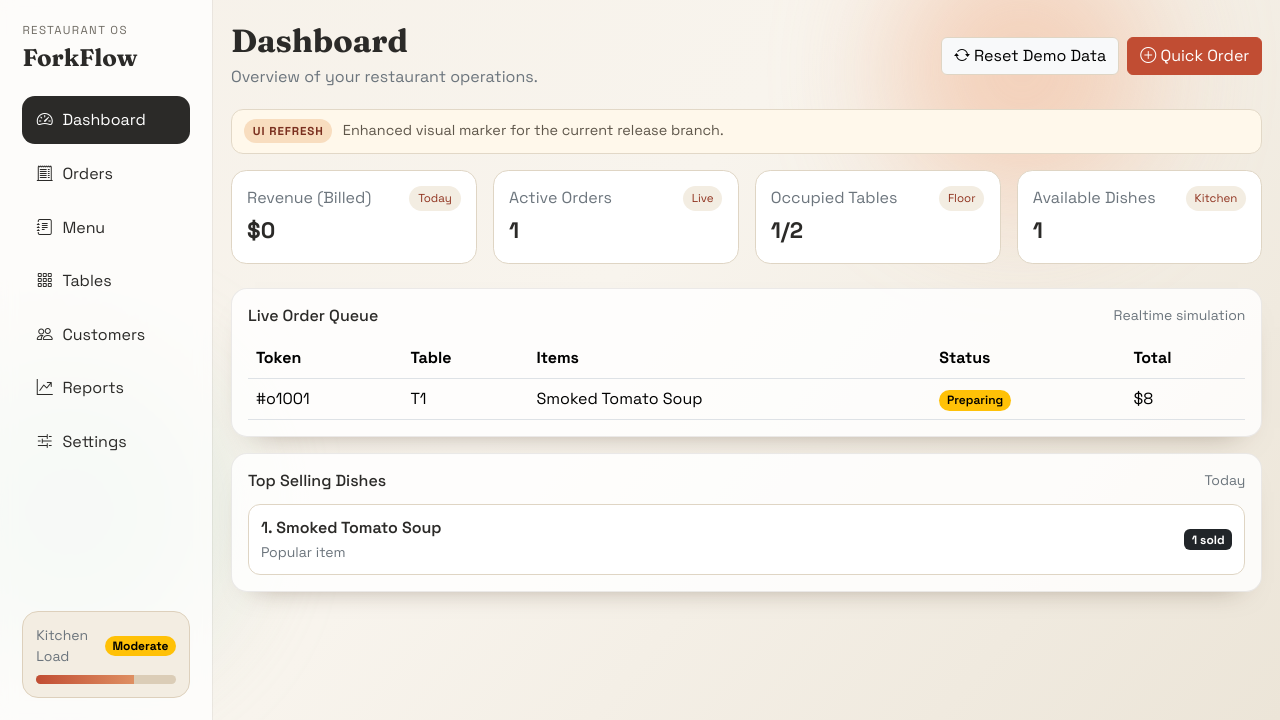
App › filters customer ledger rows by search text
This screenshot has width=1280, height=720.
Expected: the heading "Dashboard" is shown, left=231, top=21, right=408, bottom=60
Click the button "Customers" at (106, 335), box left=22, top=311, right=190, bottom=359
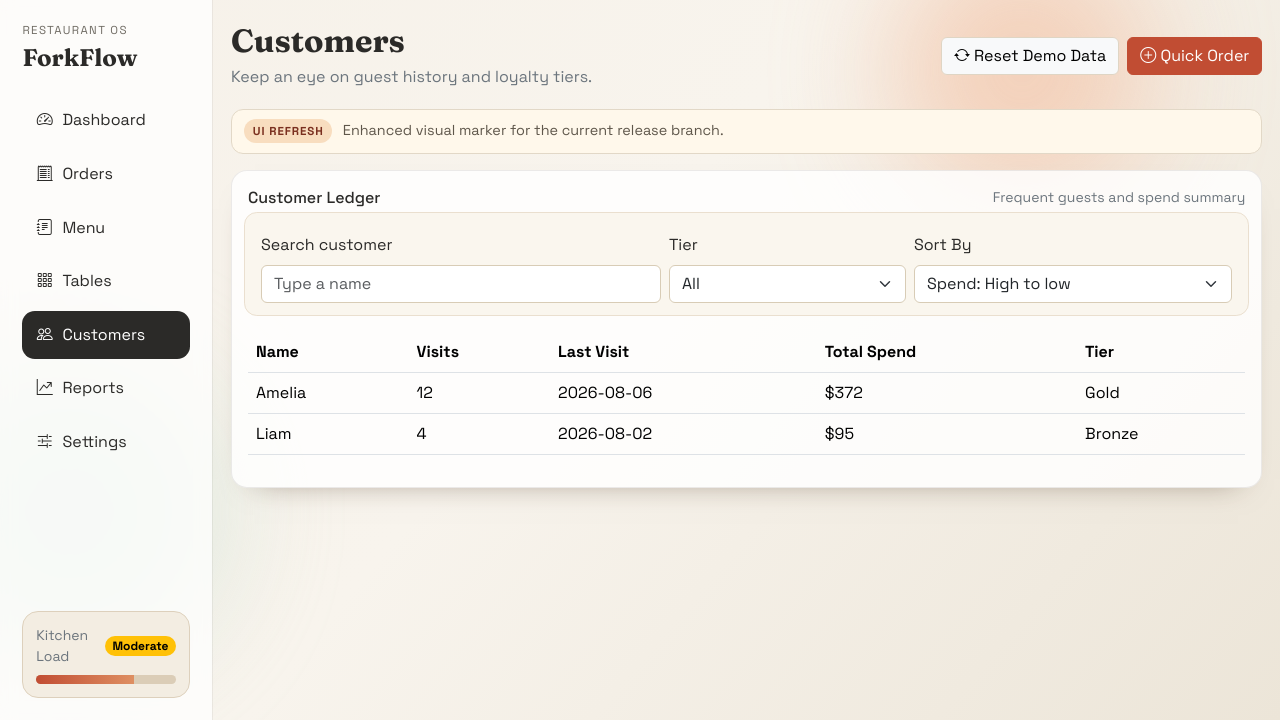
Type "amel" into the search field labelled "Search customer" at (461, 284), box left=261, top=265, right=661, bottom=303
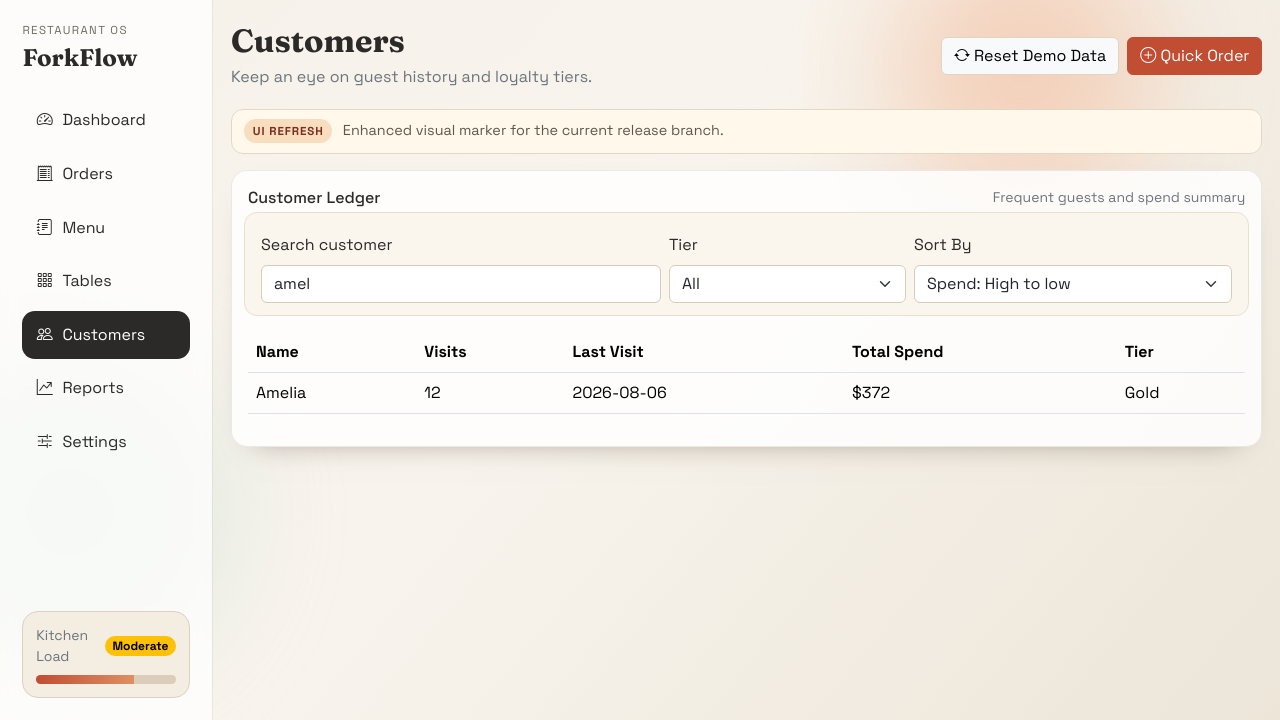
Expected: the text "Amelia" is shown, left=248, top=373, right=416, bottom=414
Expected: the text "Liam" is gone
